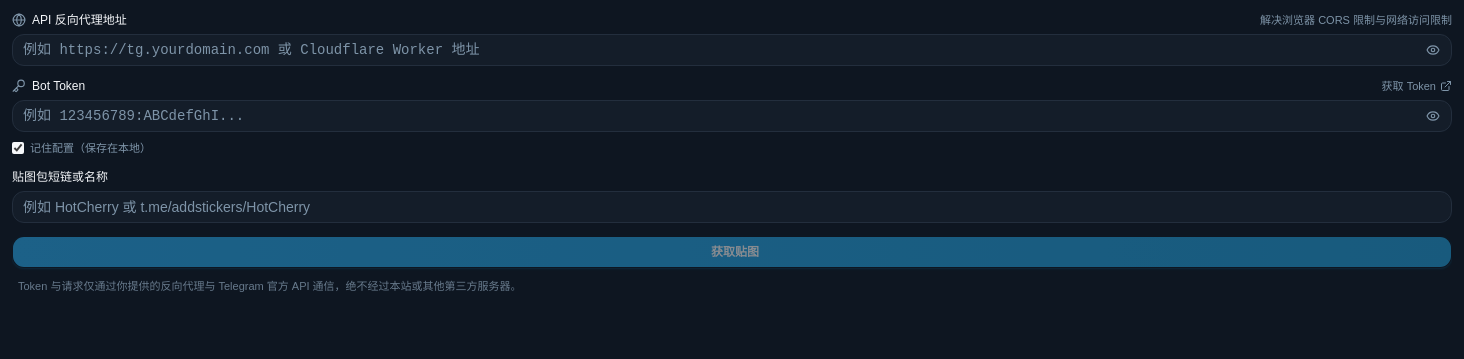
Test: TelegramBotForm 组件 › 验证非法的 Bot Token 并阻止提交
The width and height of the screenshot is (1464, 359).
Step 1. Type "https://tg.yourdomain.com" into the password field labelled "API 反向代理地址" → coordinates (732, 50), box [12, 34, 1452, 66]
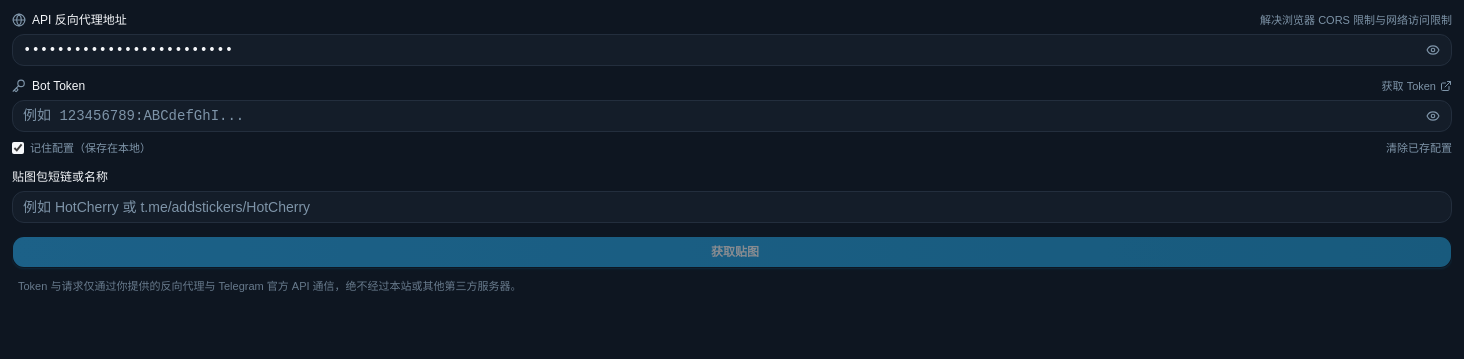
Step 2. Type "invalid-token" into the password field labelled "Bot Token" → coordinates (732, 116), box [12, 100, 1452, 132]
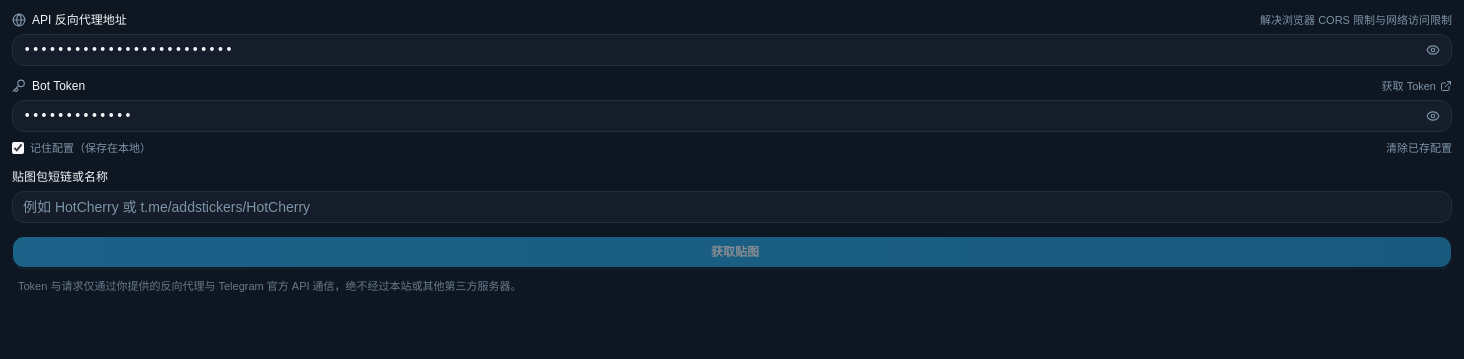
Step 3. Type "HotCherry" into the field labelled "贴图包短链或名称" → coordinates (732, 206), box [12, 190, 1452, 222]
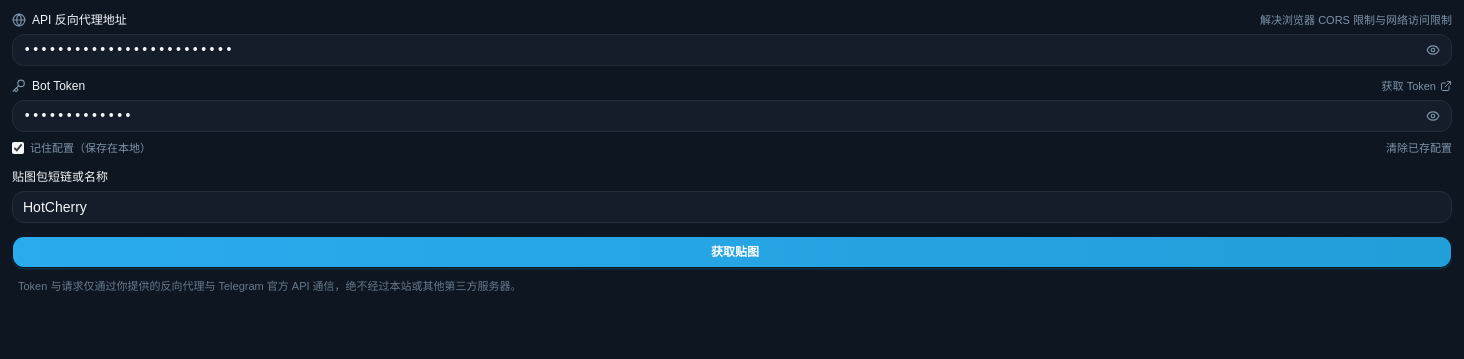
Now the button "获取贴图" is enabled
Step 4. Click the button "获取贴图" → coordinates (732, 252), box [12, 236, 1452, 268]
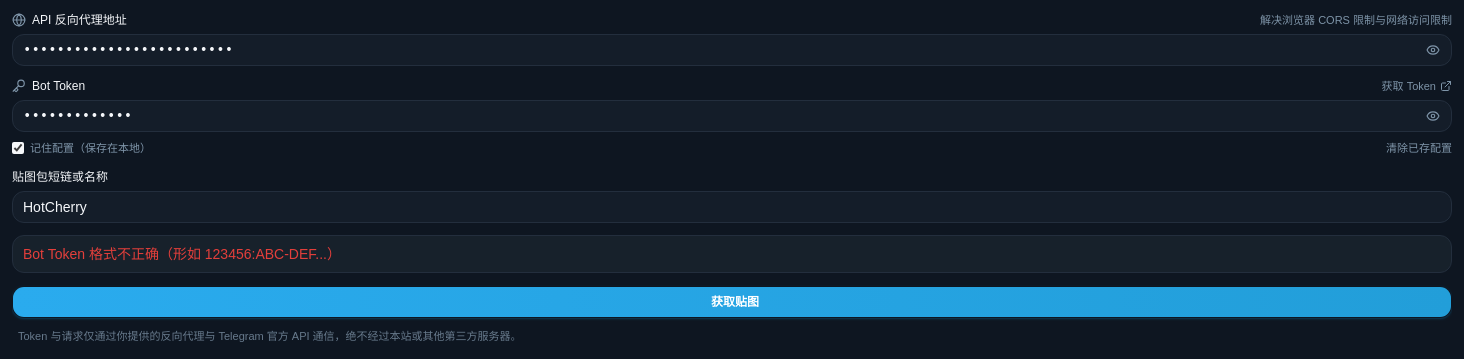
Now the text "Bot Token 格式不正确（形如 123456:ABC-DEF...）" is shown, box [23, 246, 341, 262]
